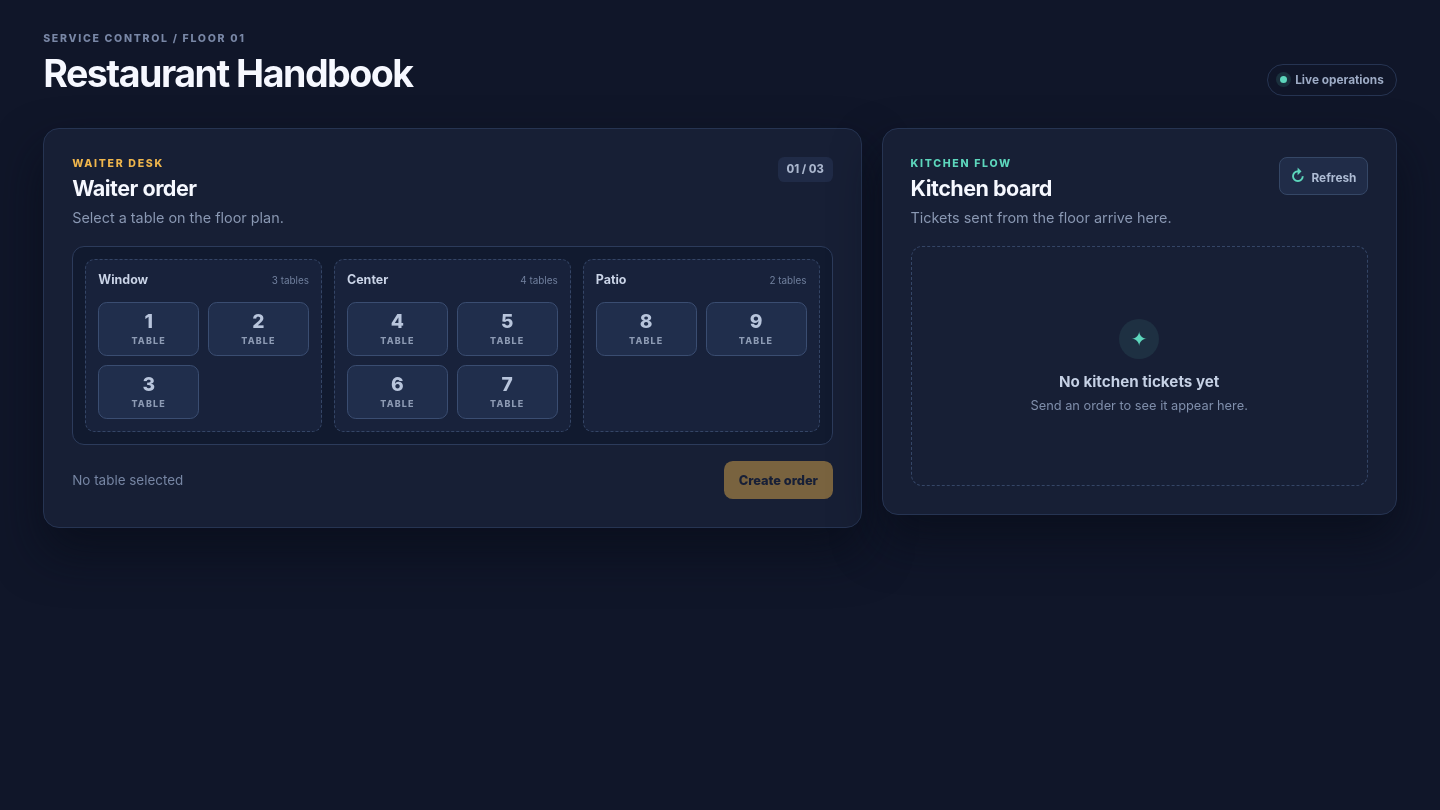
Test: App workflow states › renders a business error from the API
The width and height of the screenshot is (1440, 810).
Click the button with class "table-button" showing "1 TABLE" at (149, 329), box [98, 302, 199, 356]
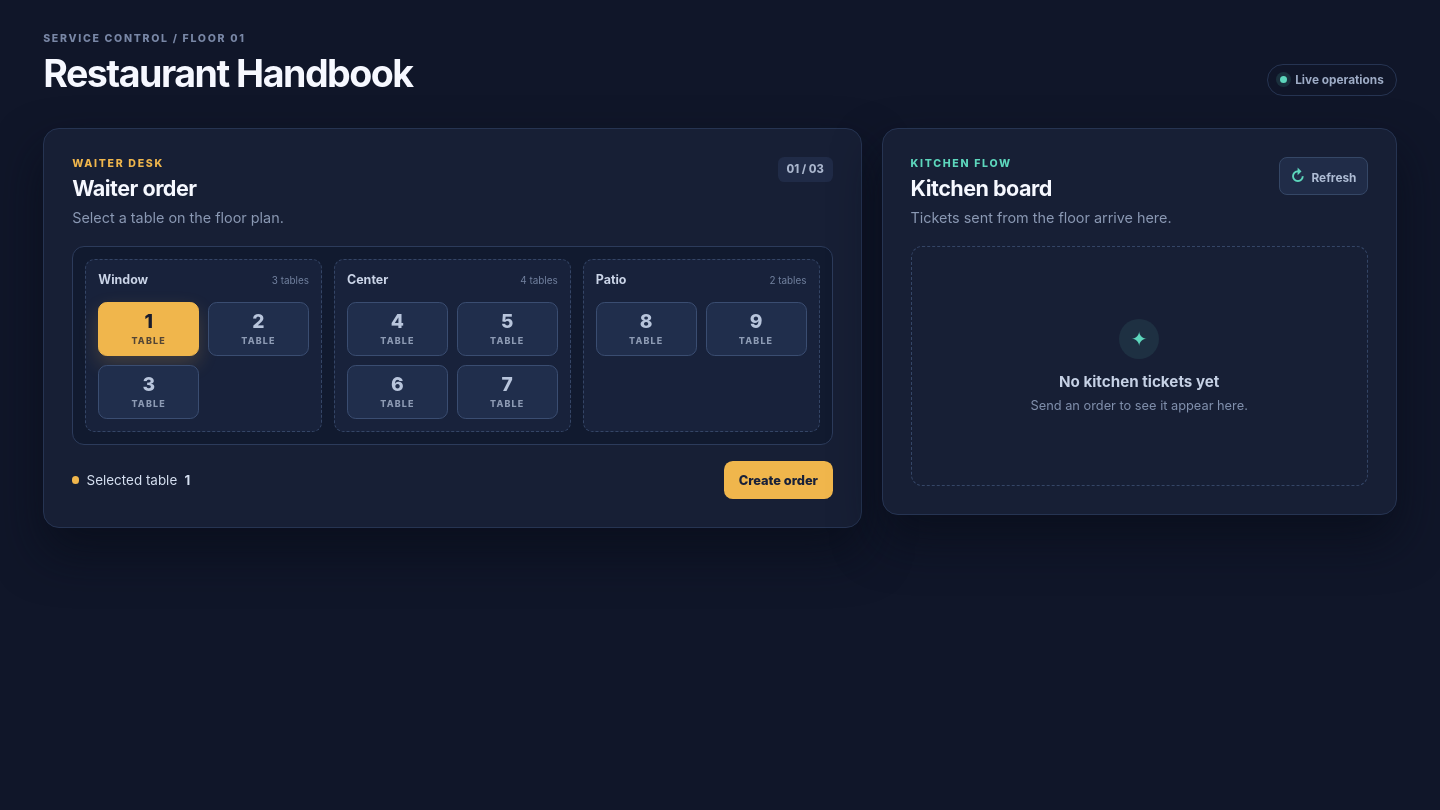
Click the button "Create order" at (778, 480), box [724, 461, 833, 499]
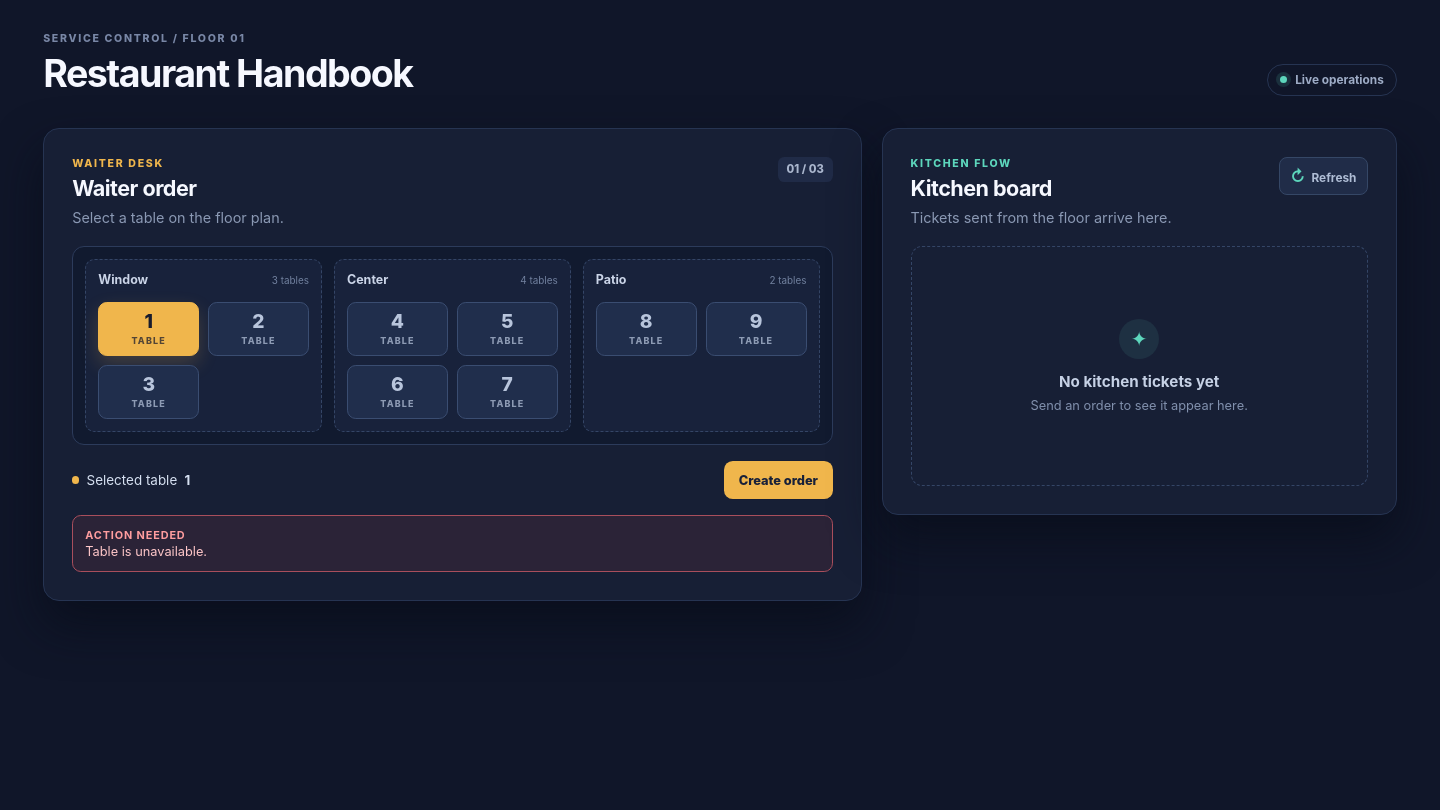
Expected: the message "Action needed Table is unavailable." is shown, [72, 515, 833, 572]
